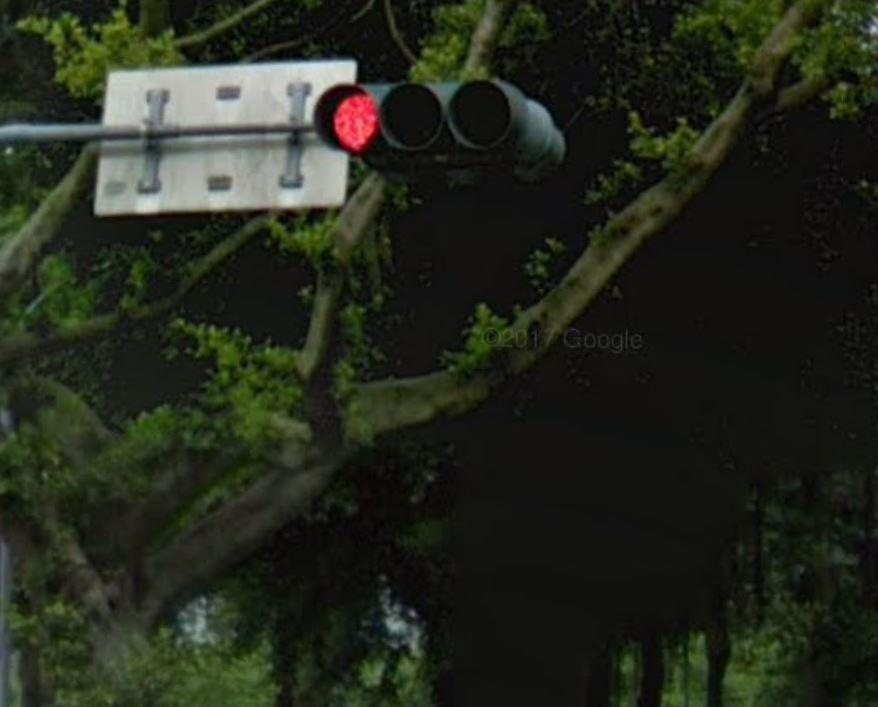red_traffic_light: (310, 76, 534, 159)
